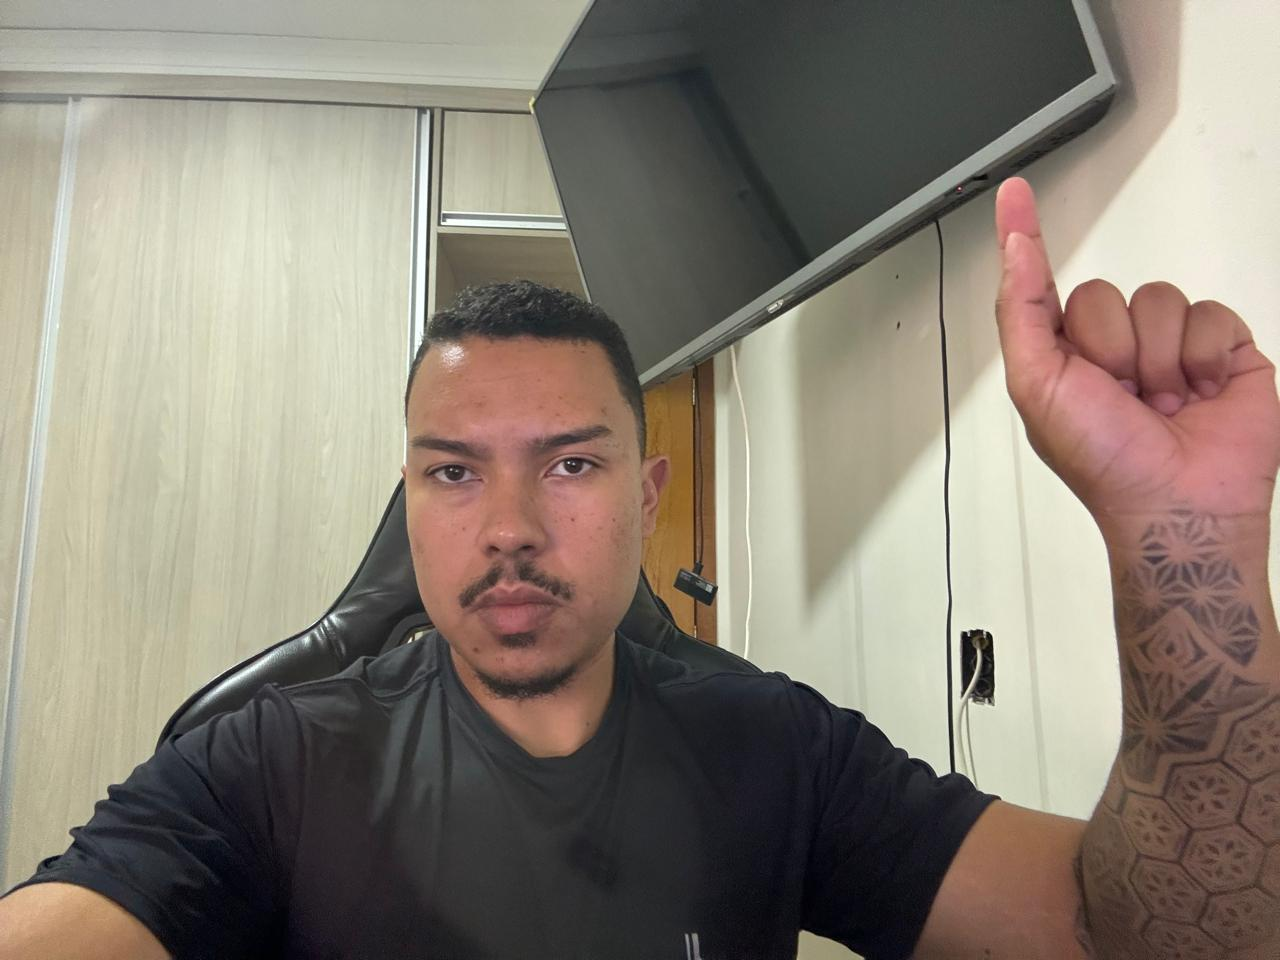g: (979, 162, 1280, 533)
